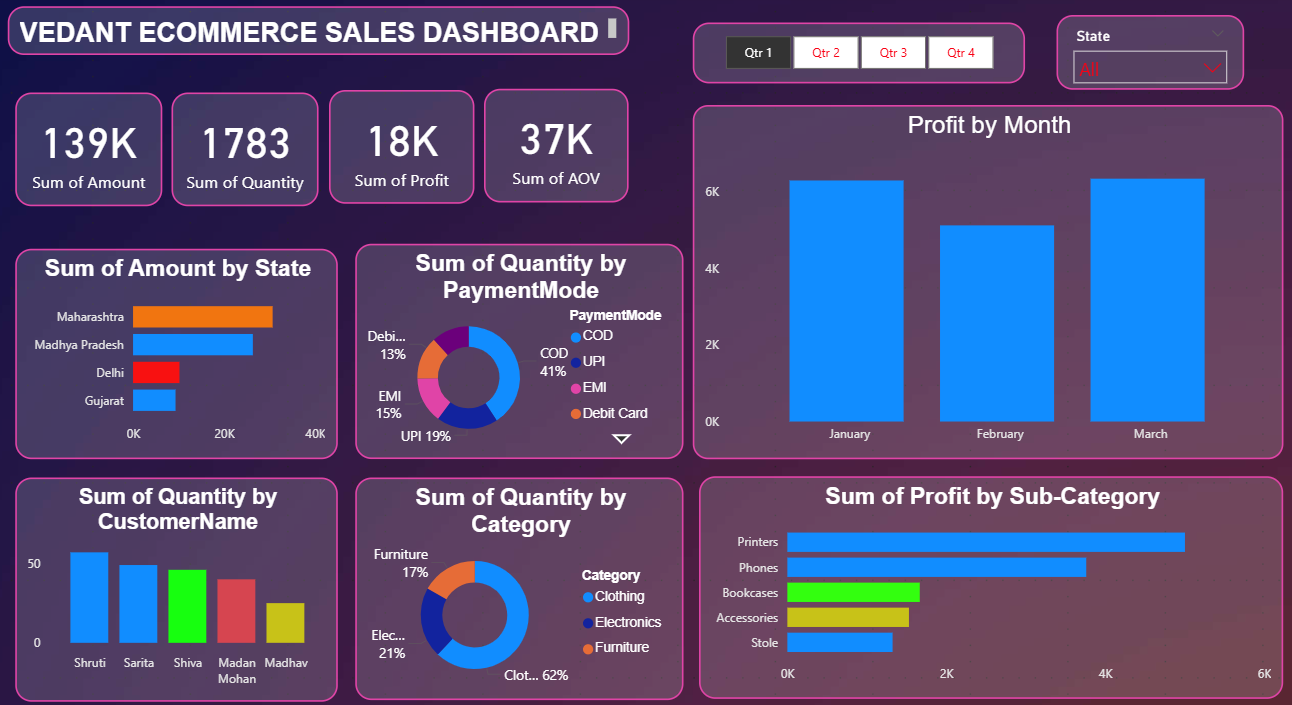

This screenshot's page, from the dashboard's own definition file:
{"tool":"powerbi","page":{"name":"Page 1","canvas":[1280,720],"ordinal":0},"visuals":[{"type":"textbox","box":[13.3,10.9,611.7,48.3],"z":0},{"type":"columnChart","title":"Profit by Month","fields":{"Category":["Orders.Order Date.Variation.Date Hierarchy.Month"],"Y":["Details.Profit"]},"box":[687.7,108.6,581.5,348.7],"z":1000},{"type":"barChart","fields":{"Category":["Details.Sub-Category"],"Y":["Details.Profit"]},"box":[693.7,474.1,575.5,219.6],"z":2000},{"type":"donutChart","fields":{"Category":["Details.Category"],"Y":["Details.Quantity"]},"box":[355.9,475.3,323.3,219.6],"z":3000},{"type":"donutChart","fields":{"Category":["Details.PaymentMode","Details.Category"],"Y":["Details.Quantity"]},"box":[355.9,244.9,323.3,212.3],"z":4000},{"type":"card","fields":{"Values":["Details.Amount"]},"box":[20.5,96.5,144.8,112.2],"z":5000},{"type":"card","fields":{"Values":["Details.Quantity"]},"box":[174.9,96.5,144.8,112.2],"z":6000},{"type":"card","fields":{"Values":["Details.Profit"]},"box":[329.4,94.1,143.6,112.2],"z":7000},{"type":"card","fields":{"Values":["Details.AOV"]},"box":[482.6,92.9,142.4,112.2],"z":8000},{"type":"barChart","fields":{"Category":["Orders.State"],"Y":["Details.Amount"]},"box":[20.5,249.7,317.3,207.5],"z":9000},{"type":"columnChart","fields":{"Category":["Orders.CustomerName"],"Y":["Details.Quantity"]},"box":[20.5,475.3,317.3,220.8],"z":10000},{"type":"slicer","fields":{"Values":["Orders.Order Date.Variation.Date Hierarchy.Quarter"]},"box":[687.7,26.5,326.9,60.3],"z":11000},{"type":"slicer","fields":{"Values":["Orders.State"]},"box":[1046,19.3,184.6,73.6],"z":12000}]}

Visuals, with their boxes on the page's 1280x720 design canvas (x1, y1, x2, y2). These are canvas units, not pixel positions in the 1292x705 screenshot, which may show the page scaled, cropped or inside an application window:
textbox: [left=13, top=11, right=625, bottom=59]
"Profit by Month" columnChart: [left=688, top=109, right=1269, bottom=457]
barChart - Details.Sub-Category x Details.Profit: [left=694, top=474, right=1269, bottom=694]
donutChart - Details.Category x Details.Quantity: [left=356, top=475, right=679, bottom=695]
donutChart - Details.PaymentMode x Details.Category: [left=356, top=245, right=679, bottom=457]
card - Details.Amount: [left=20, top=96, right=165, bottom=209]
card - Details.Quantity: [left=175, top=96, right=320, bottom=209]
card - Details.Profit: [left=329, top=94, right=473, bottom=206]
card - Details.AOV: [left=483, top=93, right=625, bottom=205]
barChart - Orders.State x Details.Amount: [left=20, top=250, right=338, bottom=457]
columnChart - Orders.CustomerName x Details.Quantity: [left=20, top=475, right=338, bottom=696]
slicer - Orders.Order Date.Variation.Date Hierarchy.Quarter: [left=688, top=26, right=1015, bottom=87]
slicer - Orders.State: [left=1046, top=19, right=1231, bottom=93]
